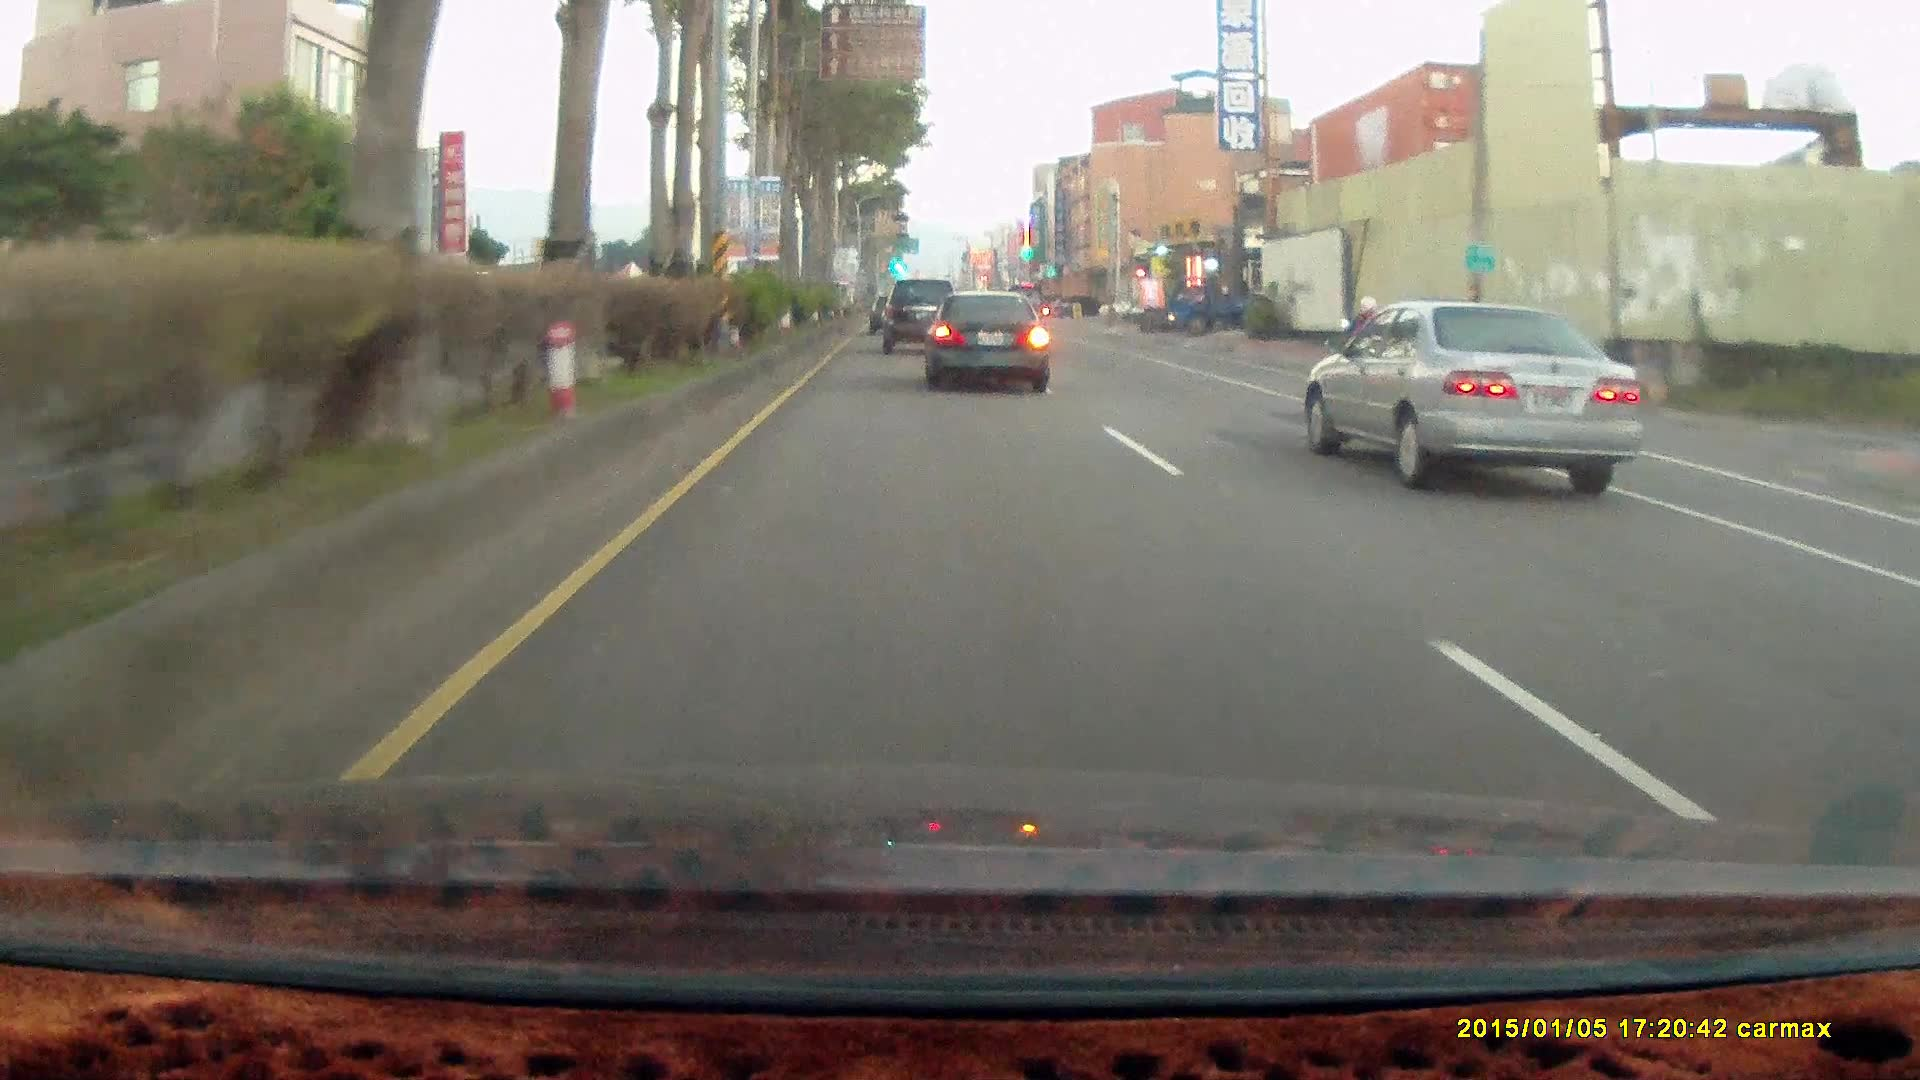vehicle: (1303, 298, 1644, 496), (1302, 301, 1646, 489), (919, 287, 1050, 392), (930, 295, 1058, 392), (1162, 272, 1265, 340), (1160, 276, 1265, 338), (880, 278, 960, 352), (881, 280, 960, 352), (1058, 294, 1102, 316)
